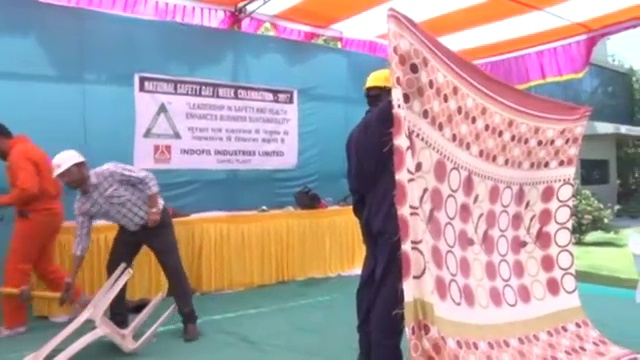helmet: (51, 149, 86, 177), (364, 66, 392, 92)
helmet_off: (1, 123, 19, 163)
helmet_on: (49, 148, 92, 192), (362, 65, 395, 109)
person: (49, 149, 201, 347), (343, 65, 409, 360), (1, 124, 69, 344)
